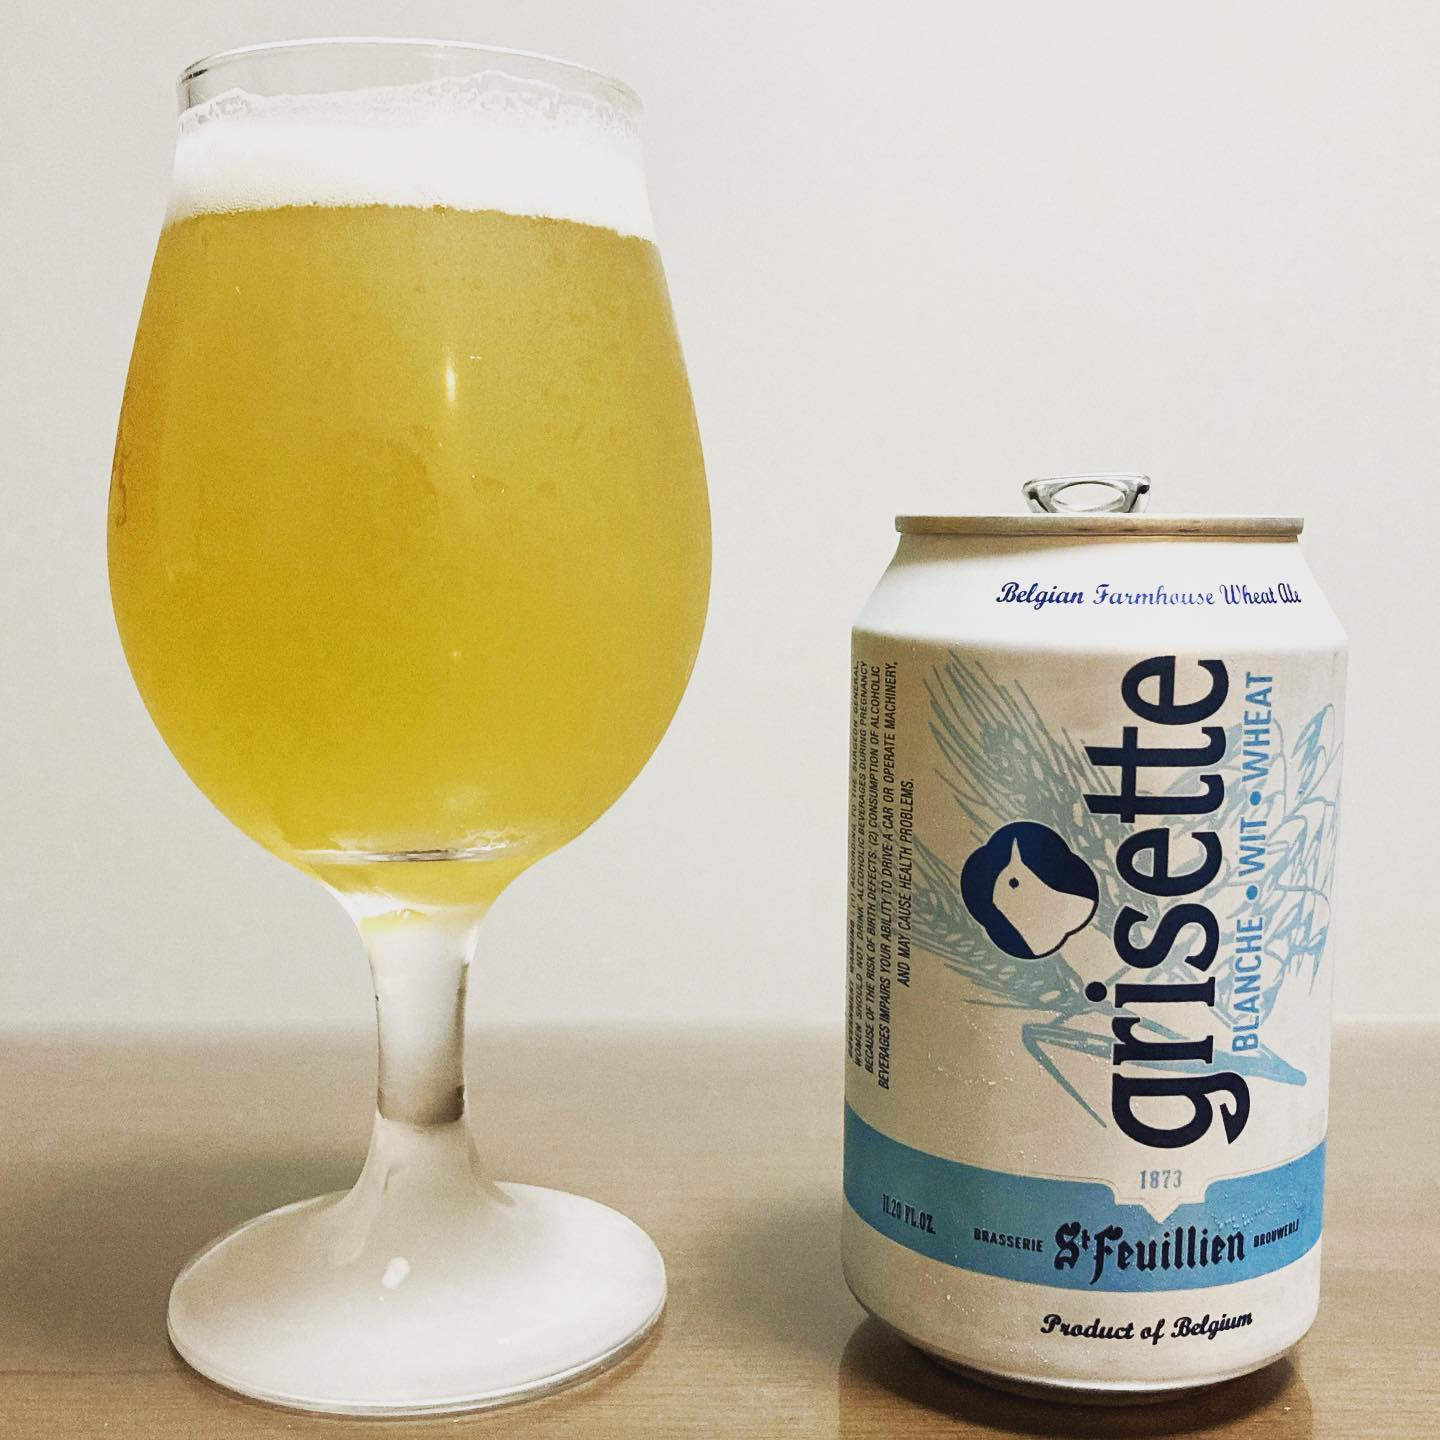alcohol: (96, 25, 723, 1425), (829, 467, 1358, 1414)
